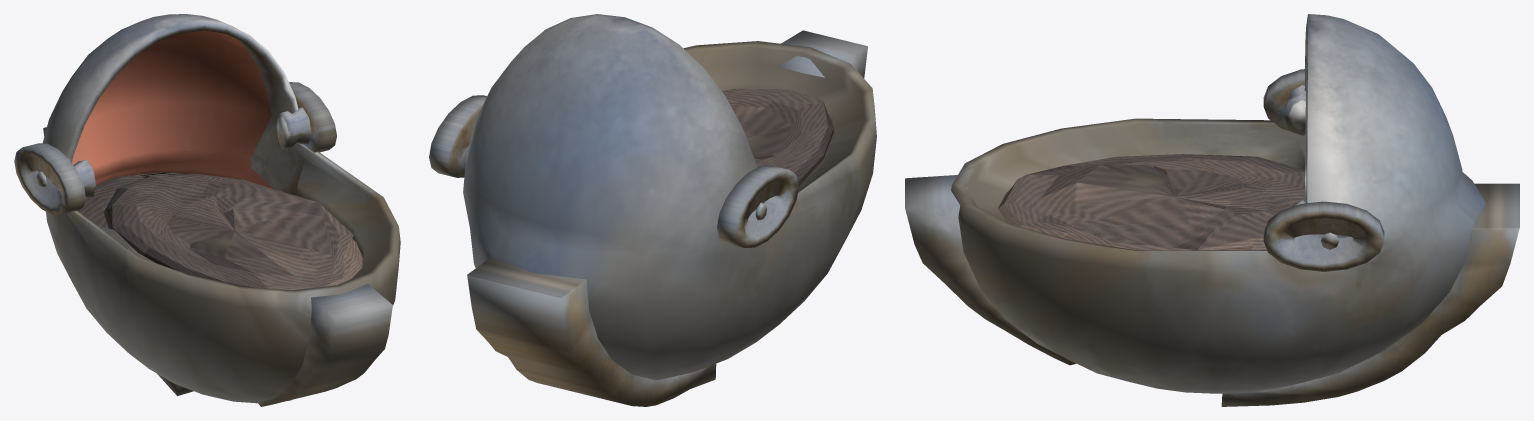
Rendered from GroguCarriage.fbx.
The picture shows the model from 3 angles, left to right: view 1: azimuth 30°, elevation 25°; view 2: azimuth 150°, elevation 25°; view 3: azimuth 270°, elevation 25°; orthographic projection. The views are drawn at different scales.
Visible parts, largest first — view 1: Sphere.001; view 2: Sphere.001; view 3: Sphere.001.
Part boxes in pixels (x1,y1,x2,y2): Sphere.001: (14,14,400,406); Sphere.001: (429,14,876,406); Sphere.001: (905,14,1519,406).
Size of the model in its own units: 159 by 190 by 289.
